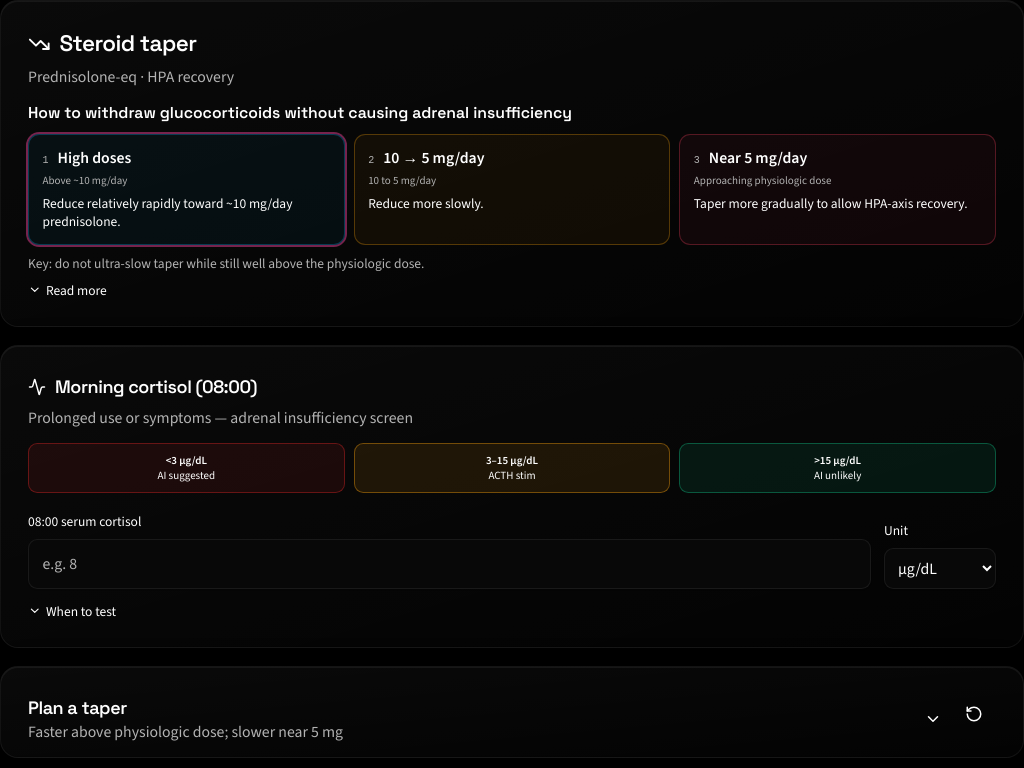
it: Steroid taper UI (progressive disclosure) › interprets morning cortisol 2 µg/dL as adrenal insufficiency suggested
Type "2" into the number field labelled "08:00 serum cortisol" at (449, 564), box [28, 539, 870, 589]
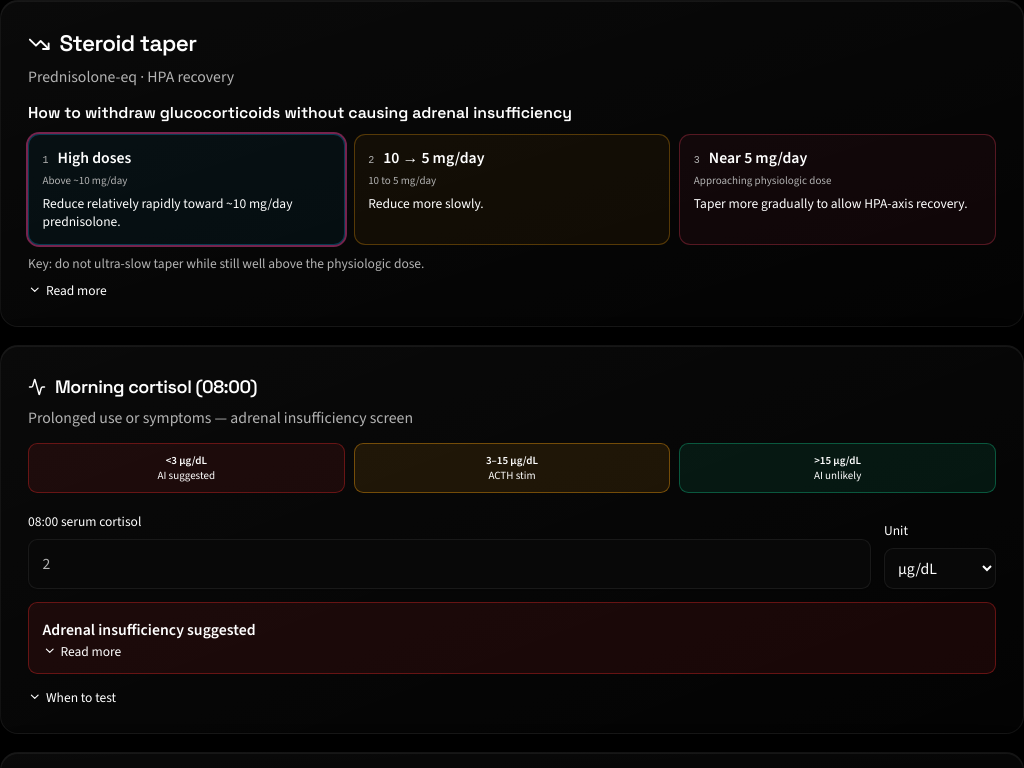
Expected: the text "Adrenal insufficiency suggested" is shown, [42, 619, 256, 640]
